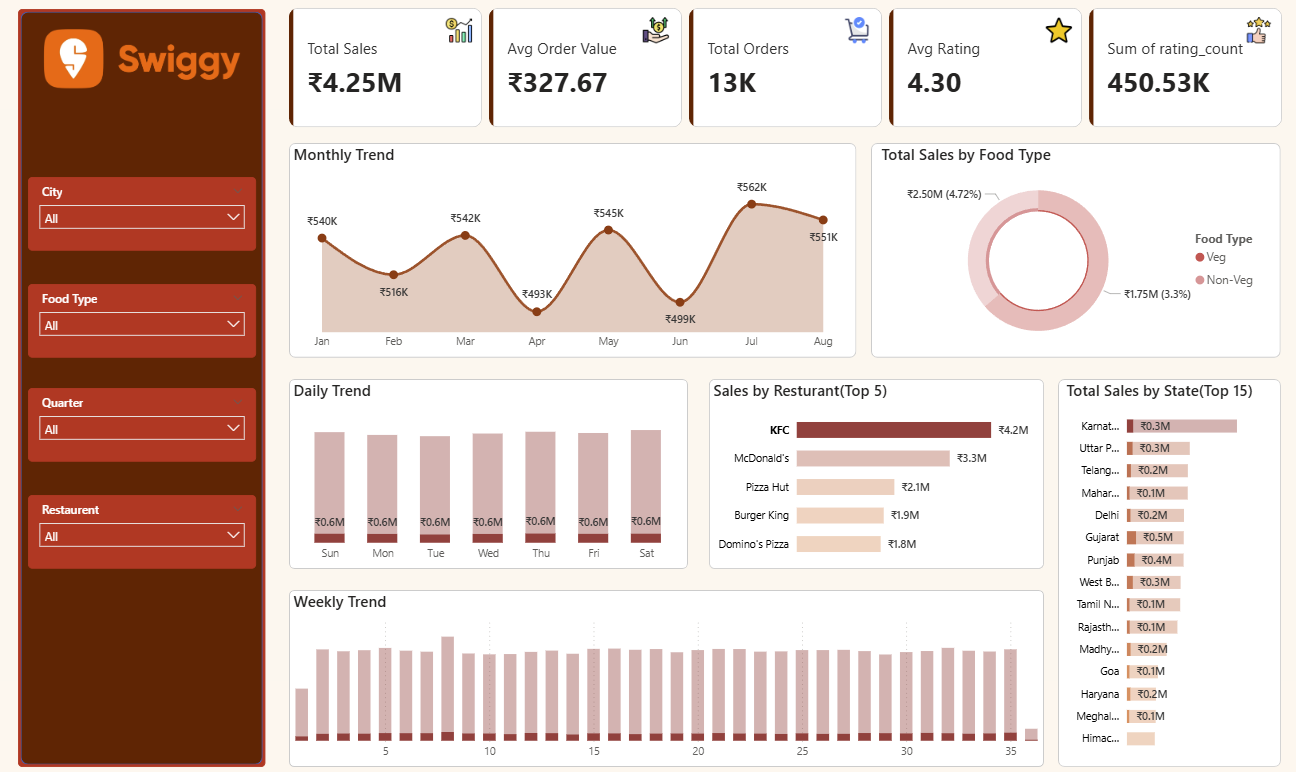

This screenshot's page, from the dashboard's own definition file:
{"tool":"powerbi","page":{"name":"Swiggy_Report","canvas":[1500,900],"ordinal":0},"visuals":[{"type":"shape","box":[40.2,17.8,281.8,864.2],"z":0},{"type":"cardVisual","fields":{"Data":["swiggy_project fact_orders.Total Sales","swiggy_project fact_orders.Avg Order Value","swiggy_project fact_orders.Total Orders","Avg(swiggy_project fact_orders.rating)","Sum(swiggy_project fact_orders.rating_count)"]},"box":[331.7,0,1168.3,171],"z":1000},{"type":"image","box":[525.8,27.4,33.4,29.8],"z":2000},{"type":"image","box":[750,27.4,33.4,29.8],"z":3000},{"type":"image","box":[978.9,27.4,33.4,29.8],"z":4000},{"type":"image","box":[1209.1,27.4,33.4,29.8],"z":5000},{"type":"image","box":[1436.8,27.4,33.4,29.8],"z":6000},{"type":"image","box":[51.3,27.4,259.9,95.4],"z":7000},{"type":"shape","box":[348.7,171.4,646.6,244.7],"z":8000},{"type":"areaChart","title":"Monthly Trend","fields":{"Category":["swiggy_project dim_date.Month"],"Y":["swiggy_project fact_orders.Total Sales"]},"box":[348.7,171.4,646.6,244.7],"z":9000},{"type":"shape","box":[1011.8,171.4,466.9,244.7],"z":10000},{"type":"donutChart","fields":{"Category":["swiggy_project dim_dish.Food Type"],"Y":["swiggy_project fact_orders.Total Sales"]},"box":[1019,171,451.4,245.1],"z":11000},{"type":"shape","box":[348.8,440,454.8,216.6],"z":12000},{"type":"columnChart","title":"Daily Trend","fields":{"Category":["swiggy_project dim_date.Day"],"Y":["swiggy_project fact_orders.Total Sales"]},"box":[348.8,440,454.8,216.6],"z":13000},{"type":"shape","box":[827.5,440,381.8,216.6],"z":14000},{"type":"barChart","title":"Sales by Resturant(Top 5)","fields":{"Category":["swiggy_project dim_restaurant.restaurant_name"],"Y":["swiggy_project fact_orders.Total Sales"]},"box":[827.5,440,381.8,216.6],"z":15000},{"type":"shape","box":[1225.3,440,254.2,442.2],"z":16000},{"type":"barChart","title":"Total Sales by State(Top 15)","fields":{"Category":["swiggy_project dim_location (1).state"],"Y":["swiggy_project fact_orders.Total Sales"]},"box":[1229.9,440,245.1,433.1],"z":17000},{"type":"shape","box":[348.8,680.5,860.6,201.8],"z":18000},{"type":"columnChart","title":"Weekly Trend","fields":{"Category":["swiggy_project dim_date.Week Number"],"Y":["swiggy_project fact_orders.Total Sales"]},"box":[348.8,680.5,860.6,201.8],"z":19000},{"type":"slicer","fields":{"Values":["swiggy_project dim_location (1).city"]},"box":[51.3,209.7,259.9,84.3],"z":20000},{"type":"slicer","fields":{"Values":["swiggy_project dim_dish.Food Type"]},"box":[51.3,331.7,259.9,84.3],"z":20001},{"type":"slicer","fields":{"Values":["swiggy_project dim_date.Quarter"]},"box":[51.3,450.2,259.9,84.3],"z":20002},{"type":"slicer","fields":{"Values":["swiggy_project dim_location (1).city"]},"box":[51.3,572.2,259.9,84.3],"z":20003}]}

Visuals, with their boxes in screenshot pixels (x1, y1, x2, y2), scaled from the page's 1500x900 canvas onto the 1296x772 screenshot:
shape: 35/15/278/757
cardVisual - swiggy_project fact_orders.Total Sales x swiggy_project fact_orders.Avg Order Value: 287/0/1295/147
image: 454/24/483/49
image: 648/24/677/49
image: 846/24/875/49
image: 1045/24/1074/49
image: 1241/24/1270/49
image: 44/24/269/105
shape: 301/147/860/357
"Monthly Trend" areaChart: 301/147/860/357
shape: 874/147/1278/357
donutChart - swiggy_project dim_dish.Food Type x swiggy_project fact_orders.Total Sales: 880/147/1270/357
shape: 301/377/694/563
"Daily Trend" columnChart: 301/377/694/563
shape: 715/377/1045/563
"Sales by Resturant(Top 5)" barChart: 715/377/1045/563
shape: 1059/377/1278/757
"Total Sales by State(Top 15)" barChart: 1063/377/1274/749
shape: 301/584/1045/757
"Weekly Trend" columnChart: 301/584/1045/757
slicer - swiggy_project dim_location (1).city: 44/180/269/252
slicer - swiggy_project dim_dish.Food Type: 44/285/269/357
slicer - swiggy_project dim_date.Quarter: 44/386/269/458
slicer - swiggy_project dim_location (1).city: 44/491/269/563
